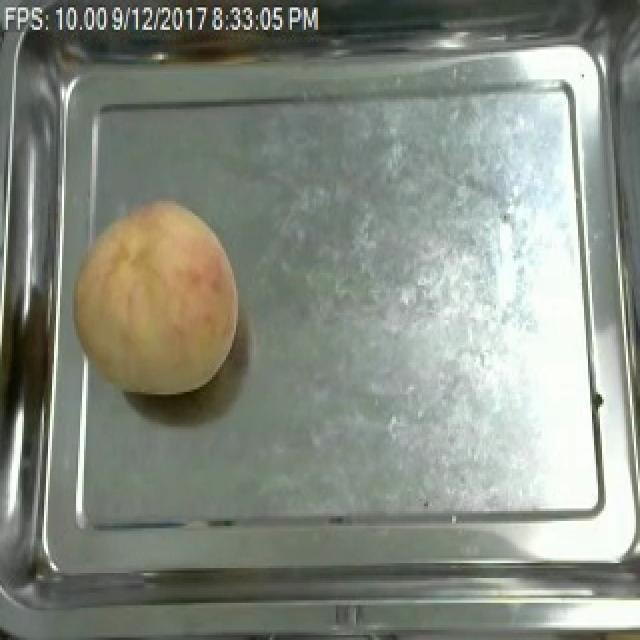Fruit: (58, 191, 248, 404)
